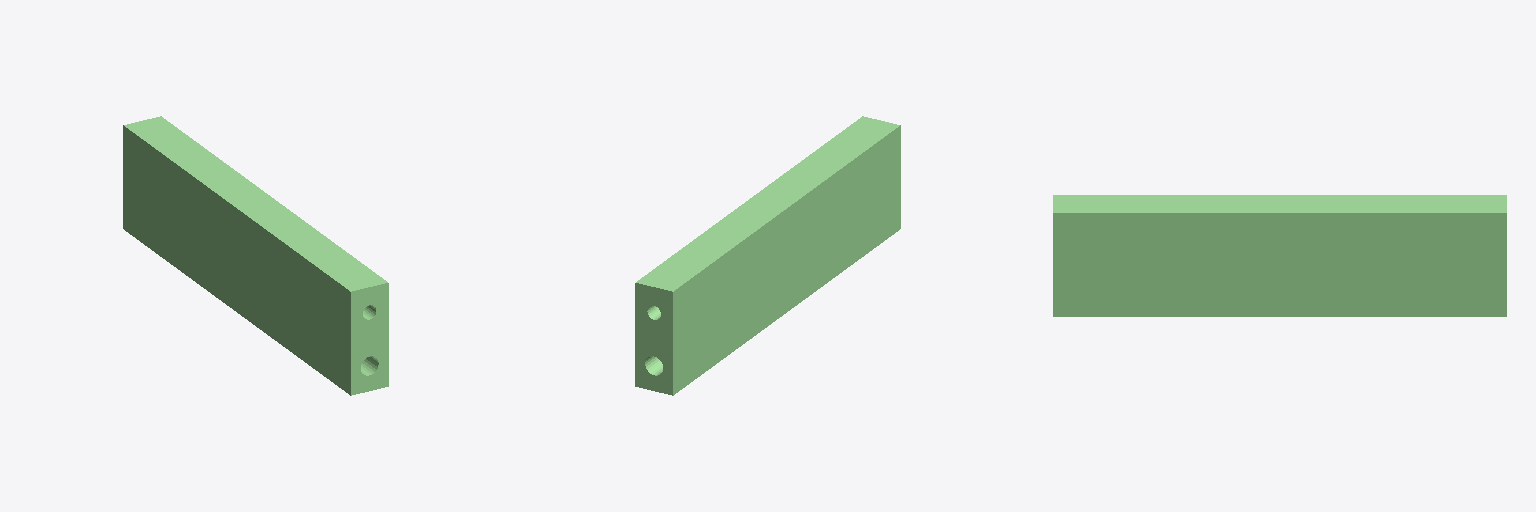
File: ryggTopCol.obj
3 views of the same model, side by side, from view 1: azimuth 30°, elevation 25°; view 2: azimuth 150°, elevation 25°; view 3: azimuth 270°, elevation 25° (orthographic).
Parts seen in each view (by area): view 1: rygg_top; view 2: rygg_top; view 3: rygg_top.
Part boxes in pixels (left/top/right/bottom): rygg_top: left=123, top=116, right=388, bottom=395; rygg_top: left=635, top=116, right=900, bottom=395; rygg_top: left=1053, top=195, right=1506, bottom=316.
Size of the model in its own units: 16.68 by 44 by 174.